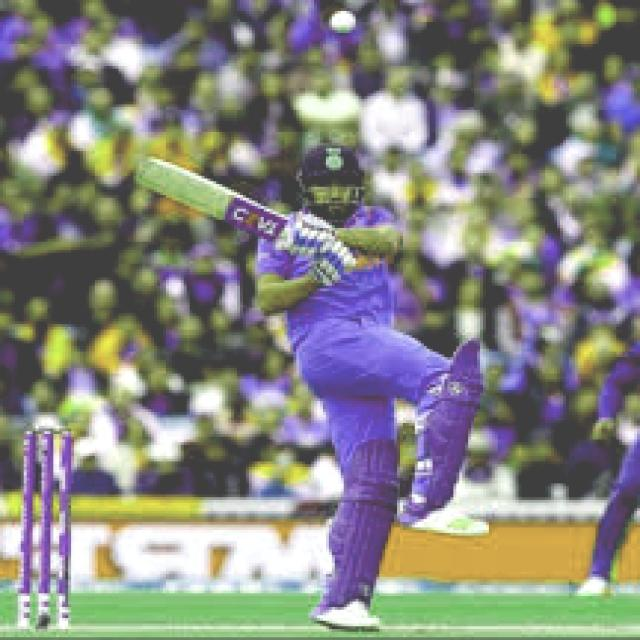toe: (129, 153, 169, 196)
